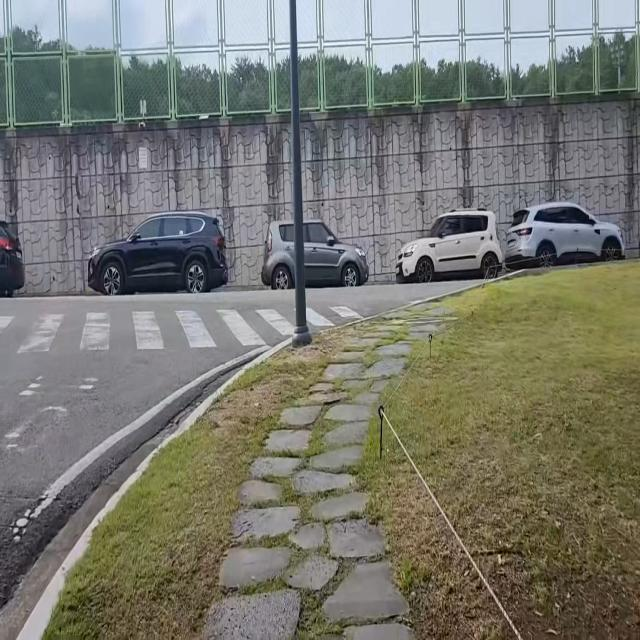obstacle: (286, 0, 315, 341), (258, 201, 372, 287)
road: (0, 277, 500, 640)
